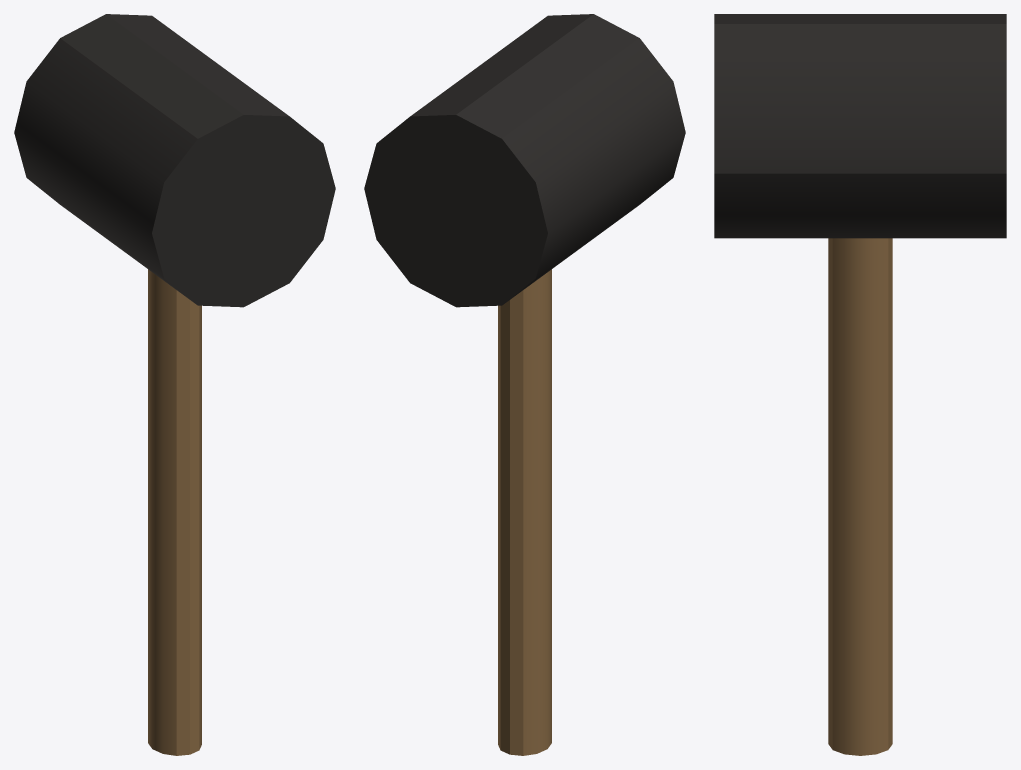
The model's file is Hammer.fbx.
The picture shows the model from 3 angles, left to right: view 1: azimuth 30°, elevation 25°; view 2: azimuth 150°, elevation 25°; view 3: azimuth 270°, elevation 25°; orthographic projection. The views are drawn at different scales.
Parts seen in each view (by area): view 1: Cylinder.048, Tool.006; view 2: Cylinder.048, Tool.006; view 3: Cylinder.048, Tool.006.
Part boxes in pixels (x1,y1,x2,y2): Cylinder.048: (14,14,335,307); Tool.006: (148,269,201,755); Cylinder.048: (364,14,685,307); Tool.006: (498,269,551,755); Cylinder.048: (714,14,1006,238); Tool.006: (828,238,892,755).
Bounding box in the file's own units: 61.12 × 216 × 79.27.
